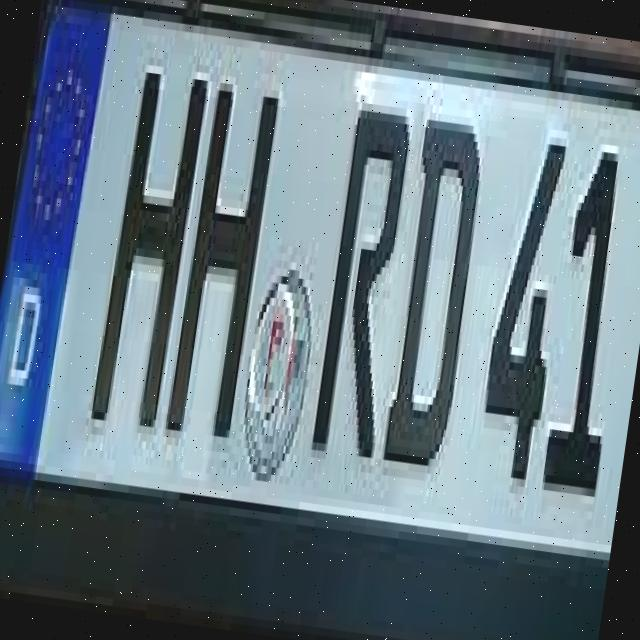Allemagne: (0, 0, 103, 463)
EU: (0, 0, 640, 592)
